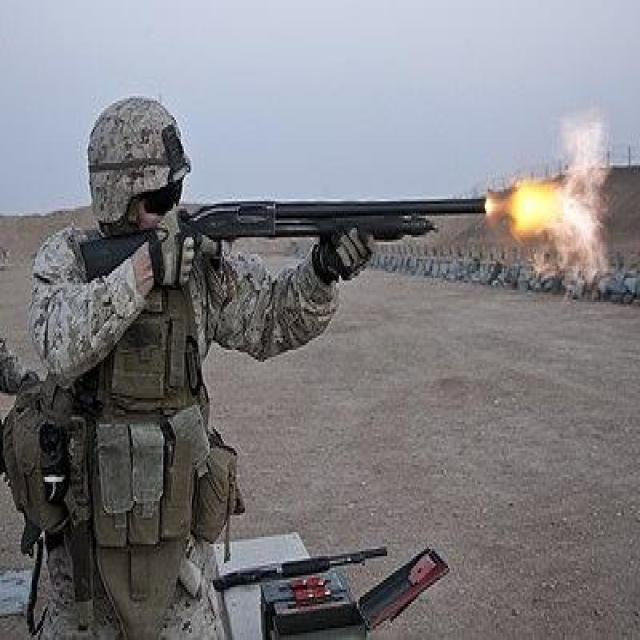weapon: (78, 196, 488, 295)
